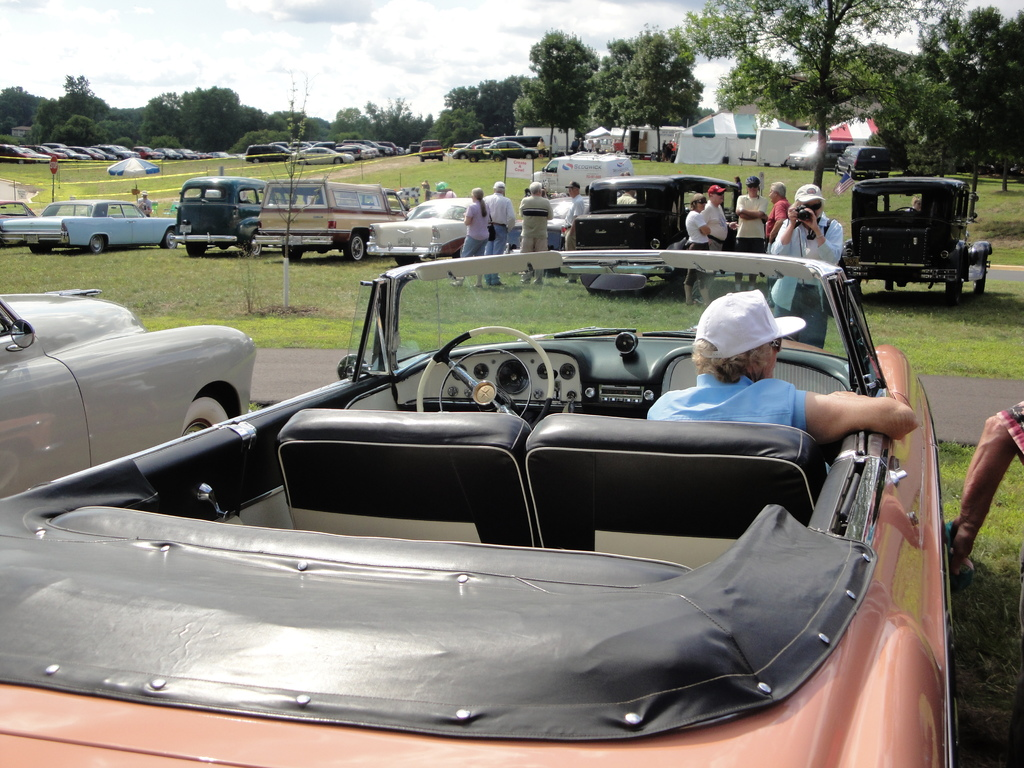Car: (0, 135, 992, 767)
